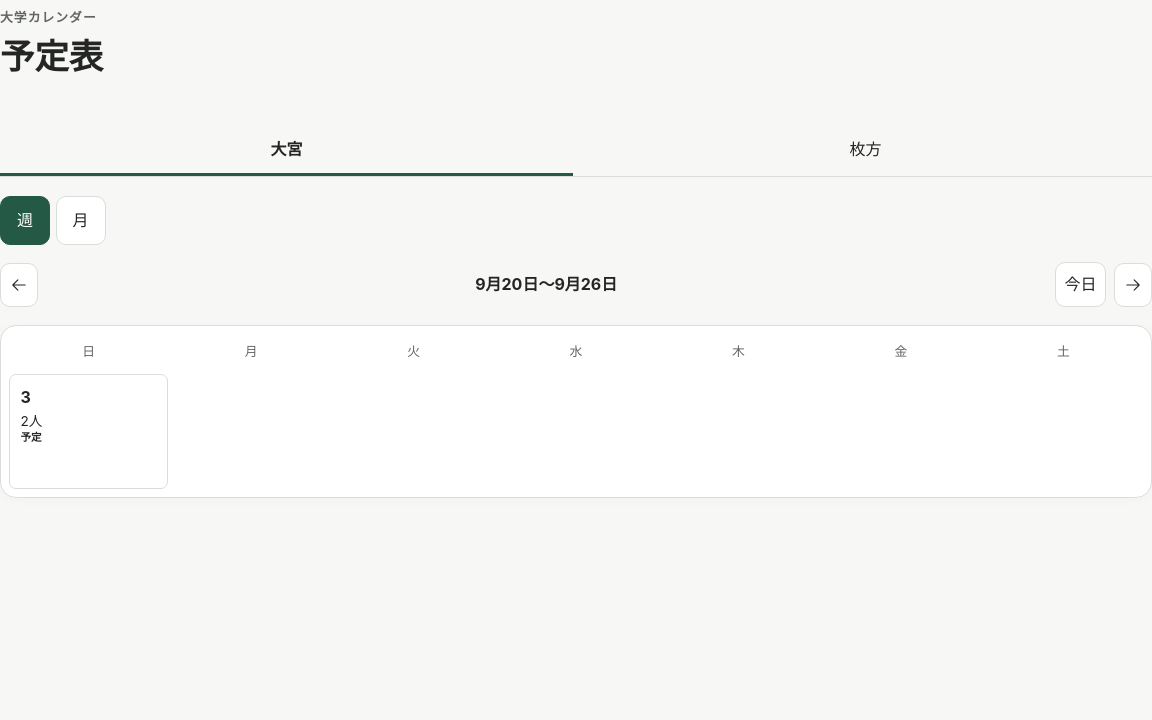
Test: calendar dialog dismissal › groups same-named campus locations by immutable ID without duplicate entries
Click the button with aria-label "2099-01-03".
click(89, 431)  # box x1=9 y1=374 x2=168 y2=489
(page scrolled)
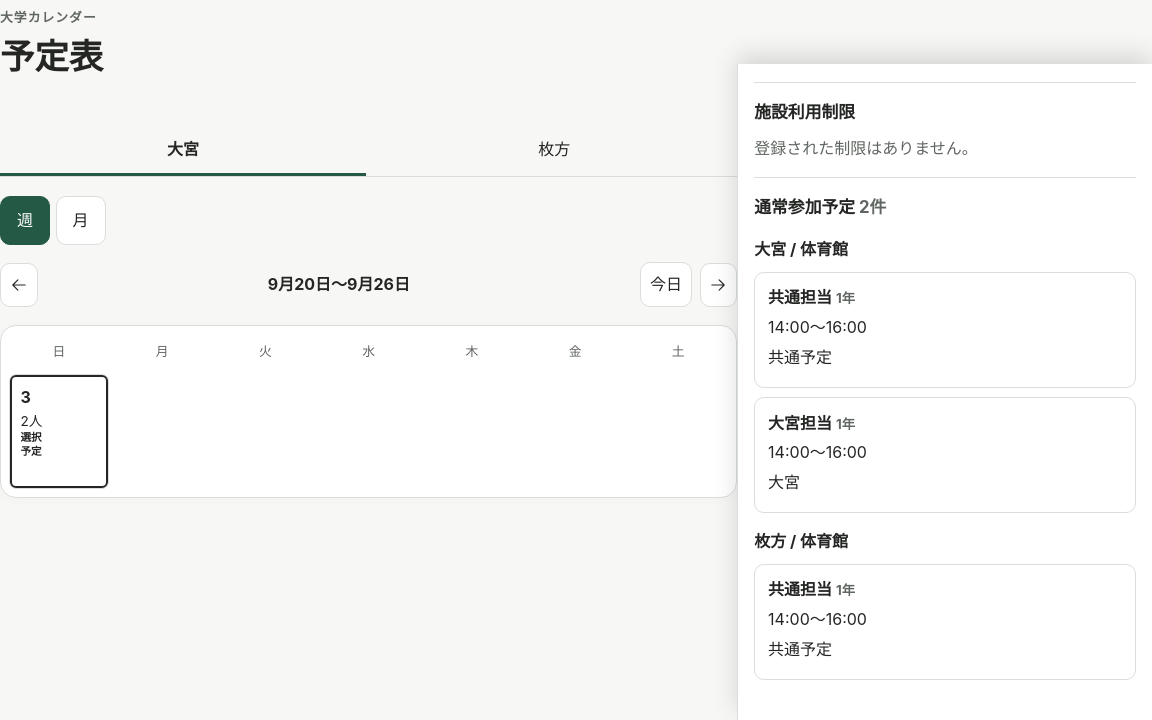
Expected: the dialog "詳細" is shown, x1=737 y1=64 x2=1151 y2=719
Expected: the element showing "大宮 / 体育館 共通担当 1年 14:00〜16:00 共通予定 大宮担当 1年 14:00〜16:00 大宮" is shown, x1=754 y1=237 x2=1136 y2=513
Expected: the element showing "枚方 / 体育館 共通担当 1年 14:00〜16:00 共通予定" is shown, x1=754 y1=529 x2=1136 y2=680
